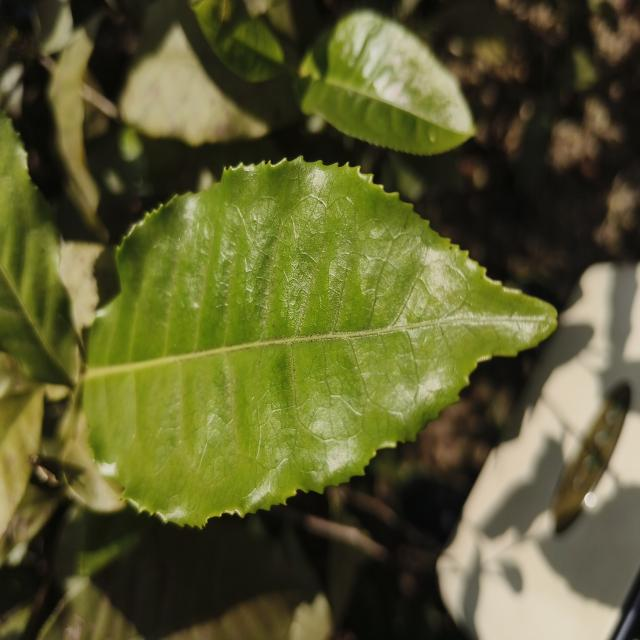Leaf: (83, 158, 556, 526), (297, 10, 474, 155), (0, 113, 77, 386), (192, 0, 284, 82)
